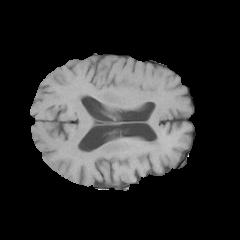glioma: (78, 137, 164, 169)
